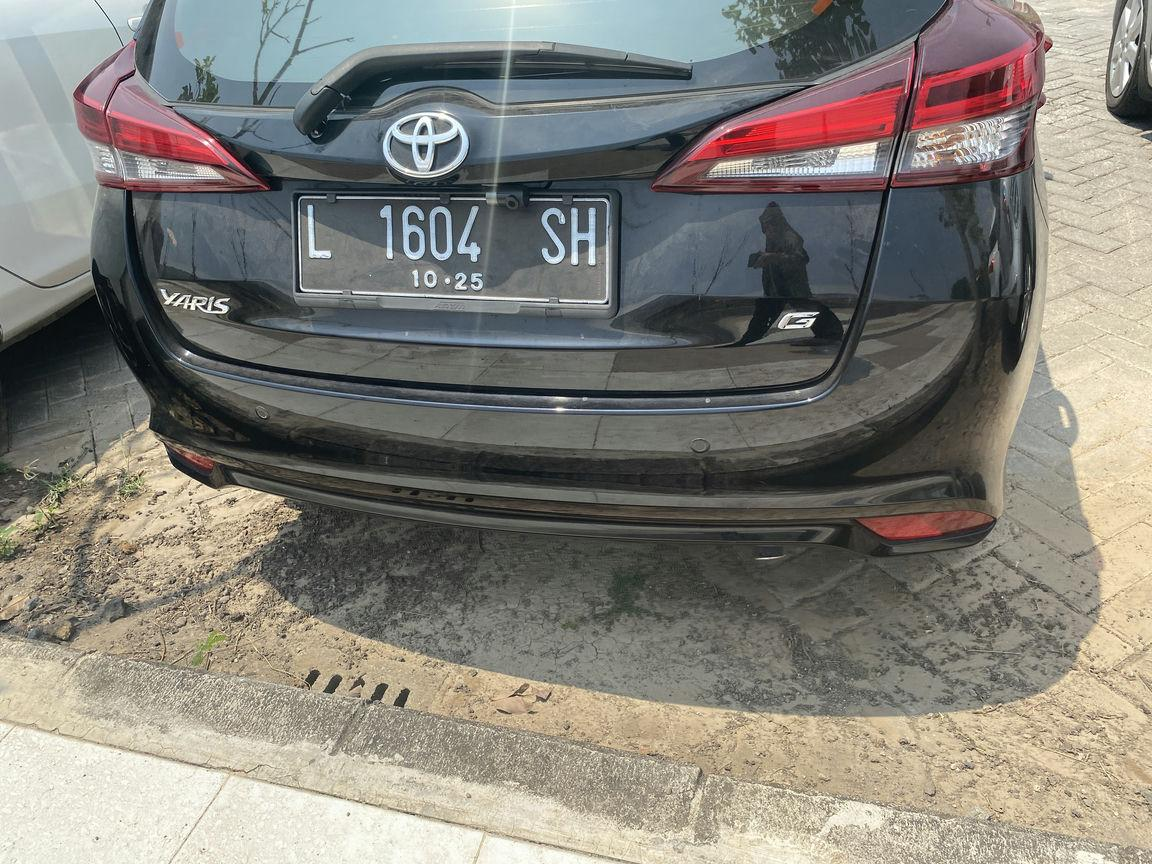plat: (297, 196, 614, 308)
